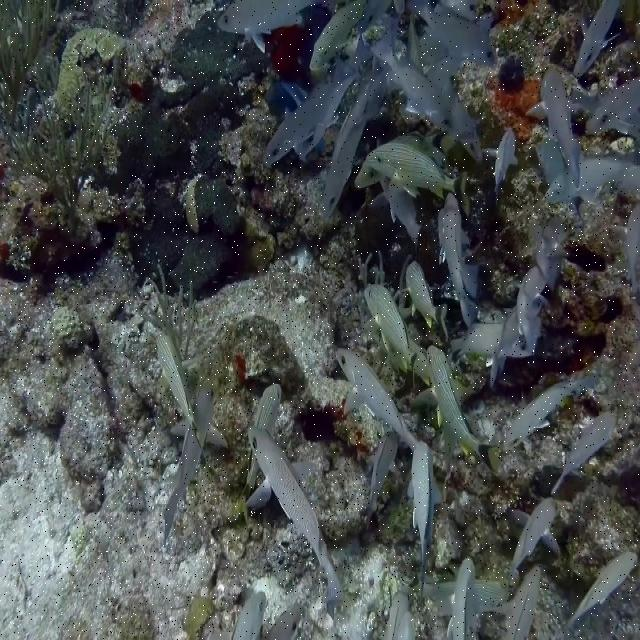fish: (336, 348, 434, 595), (246, 430, 344, 620), (262, 34, 374, 166), (411, 345, 498, 475), (160, 387, 228, 540), (323, 68, 386, 213), (372, 21, 450, 129), (367, 135, 468, 211), (502, 375, 596, 453), (526, 70, 583, 181), (357, 159, 424, 247), (438, 191, 480, 325), (550, 411, 615, 493), (566, 551, 636, 627), (411, 3, 496, 65), (431, 56, 482, 159), (365, 283, 416, 381), (156, 333, 198, 448), (575, 75, 639, 141), (309, 0, 367, 72), (548, 157, 639, 202), (509, 499, 559, 578), (573, 1, 619, 76), (293, 90, 346, 155), (218, 0, 317, 33), (406, 260, 447, 338), (363, 432, 397, 523), (496, 567, 539, 638), (486, 126, 521, 206), (447, 556, 478, 639), (518, 267, 547, 349), (491, 303, 521, 378), (452, 321, 504, 354), (249, 383, 282, 433), (231, 592, 265, 639), (268, 603, 304, 639), (383, 591, 409, 638), (627, 201, 639, 291), (425, 575, 458, 603), (477, 581, 508, 608), (245, 440, 259, 499), (409, 19, 423, 71), (504, 334, 533, 359), (460, 265, 479, 298), (398, 610, 415, 638)
reefs: (94, 5, 269, 298), (0, 0, 146, 223)
